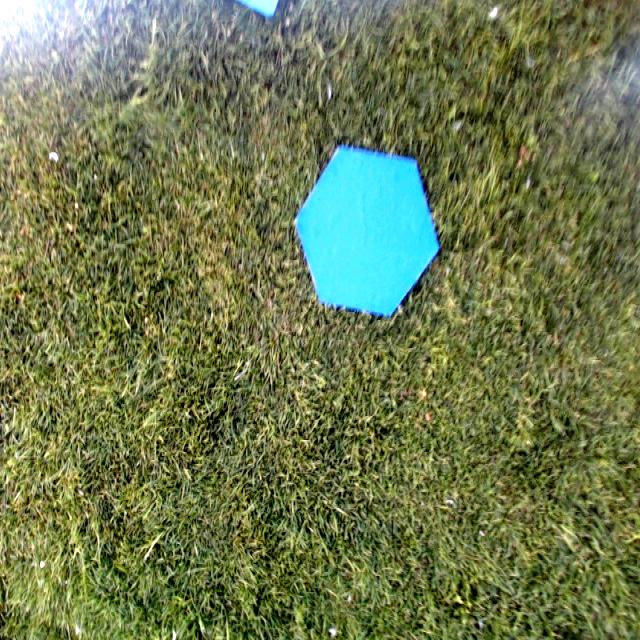blue_hexagon: (297, 148, 440, 317)
